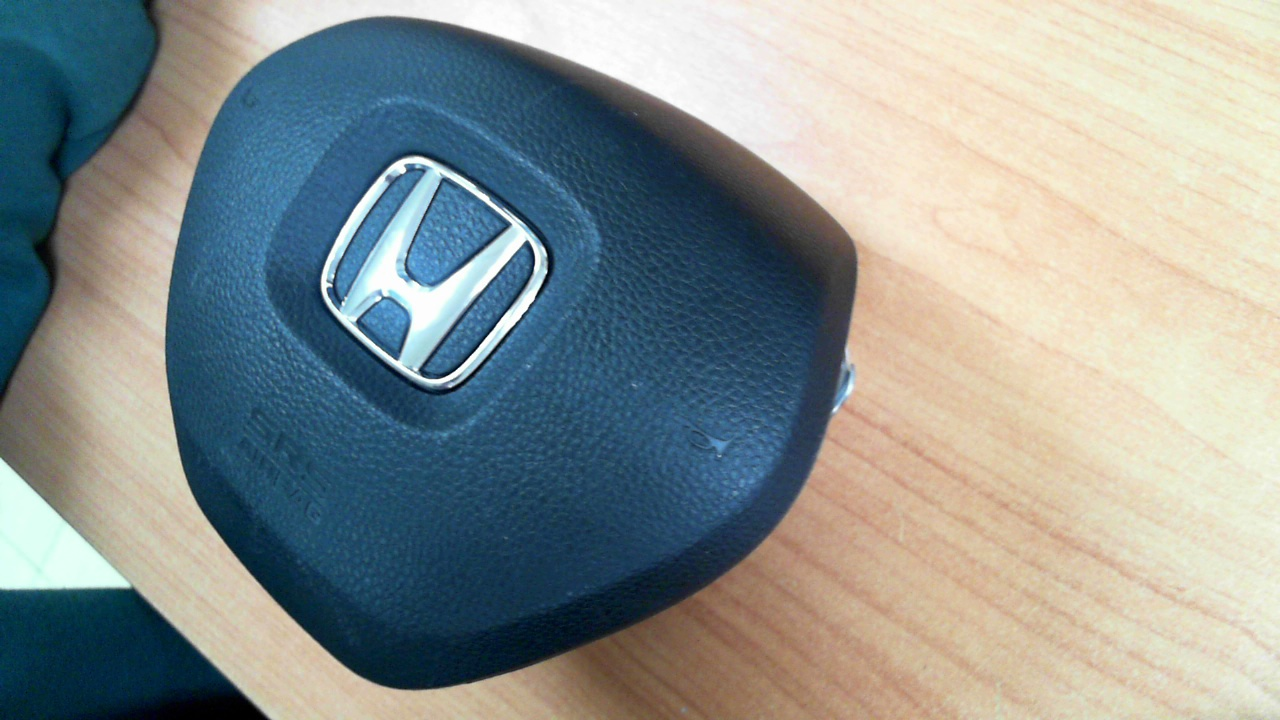Airbag: (164, 15, 859, 693)
Honda: (320, 156, 548, 390)
